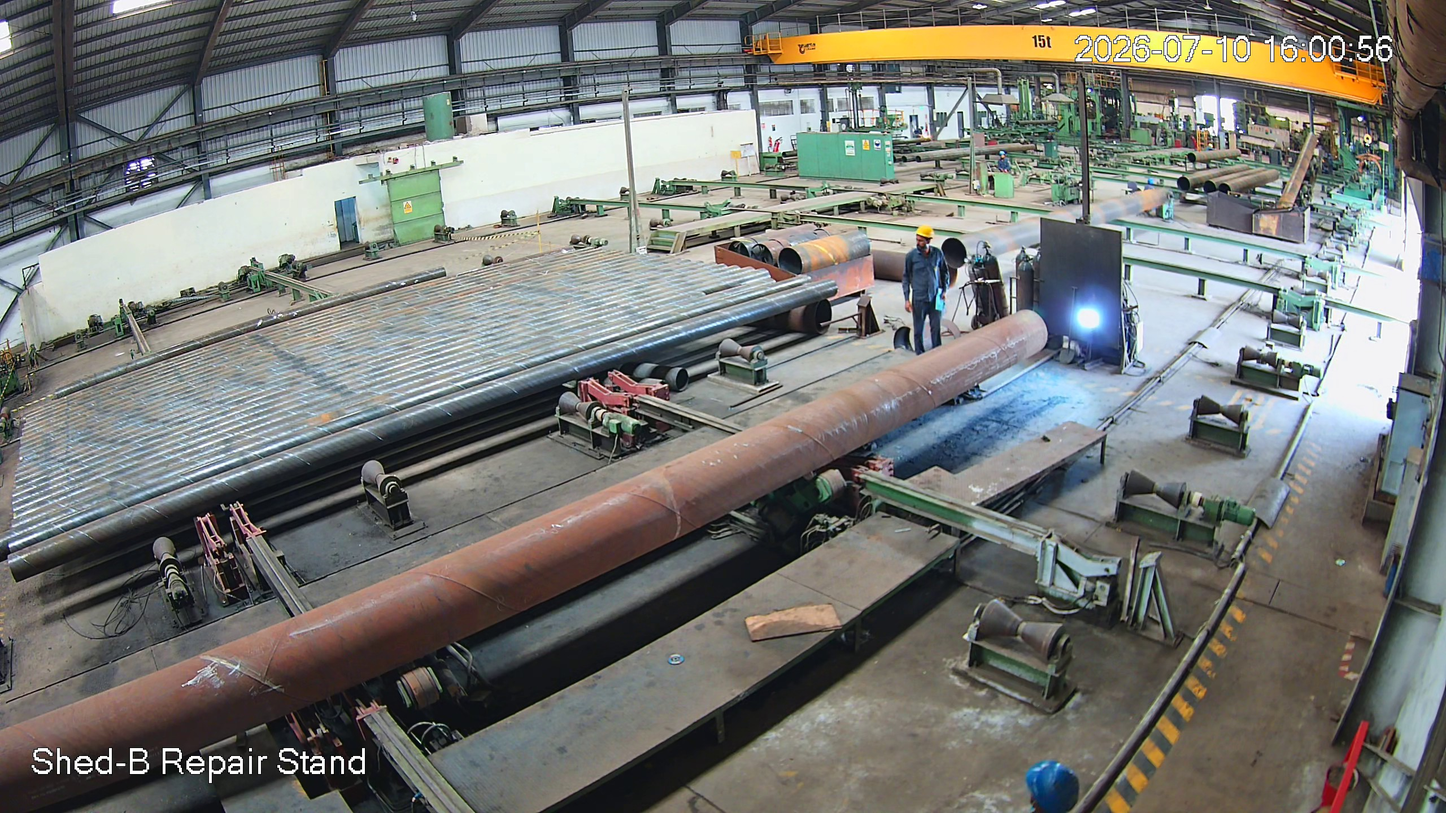Helmet: (906, 222, 943, 261)
Person: (899, 227, 955, 361)
